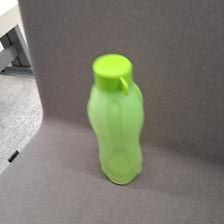bottle: (84, 47, 148, 186)
